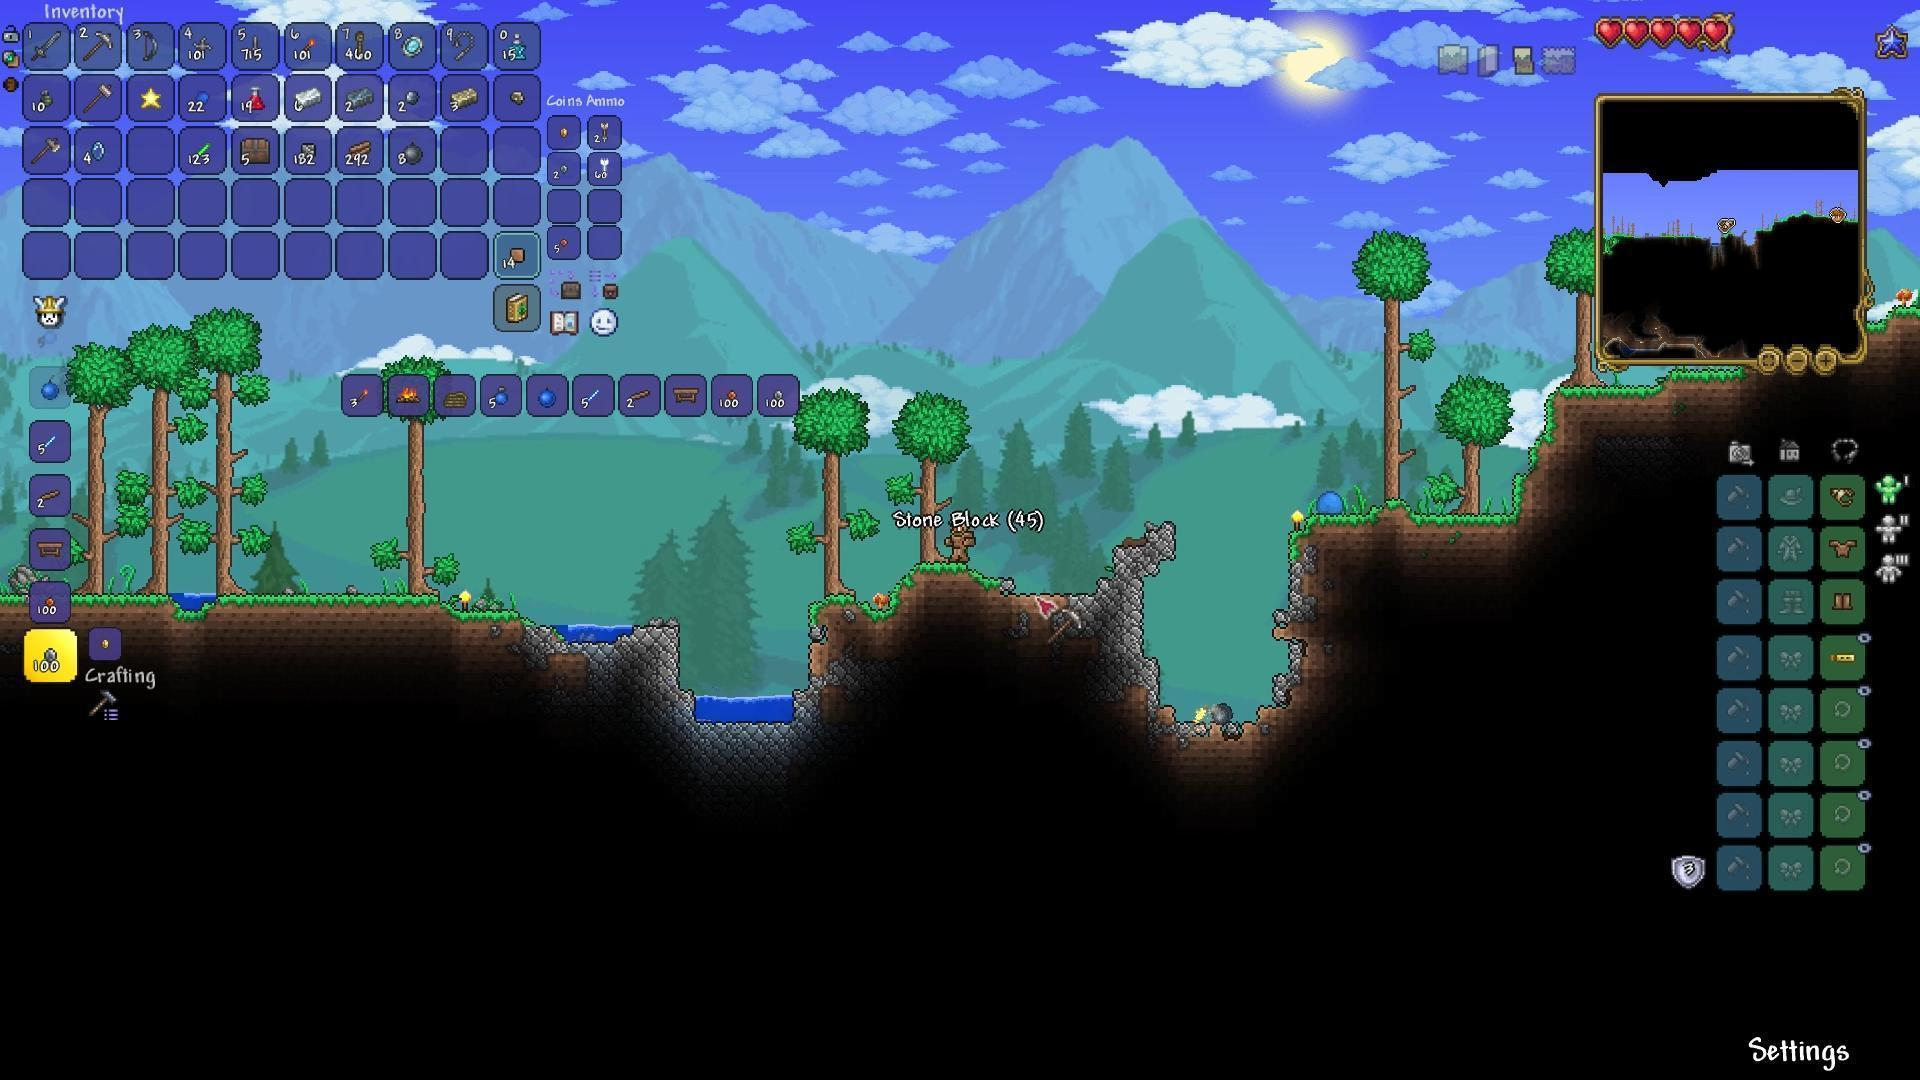axe: (30, 135, 65, 164)
bomb: (402, 142, 425, 165)
bow: (141, 28, 158, 65)
breastplate: (1828, 539, 1858, 559)
gel: (193, 86, 214, 109)
glowstick: (191, 137, 212, 157)
grenade: (40, 86, 51, 107)
heart: (1648, 17, 1677, 50), (1623, 16, 1651, 50), (1594, 17, 1625, 47), (1702, 17, 1727, 47), (1679, 18, 1702, 47)
helmet: (1829, 487, 1858, 506)
knife: (248, 33, 262, 58)
legs: (1829, 589, 1858, 615)
lens: (88, 138, 109, 162)
pickaxe: (83, 28, 115, 61)
rope: (353, 25, 367, 62)
shuriken: (194, 36, 212, 58)
slime: (1308, 479, 1346, 516)
wood: (345, 136, 375, 162)
